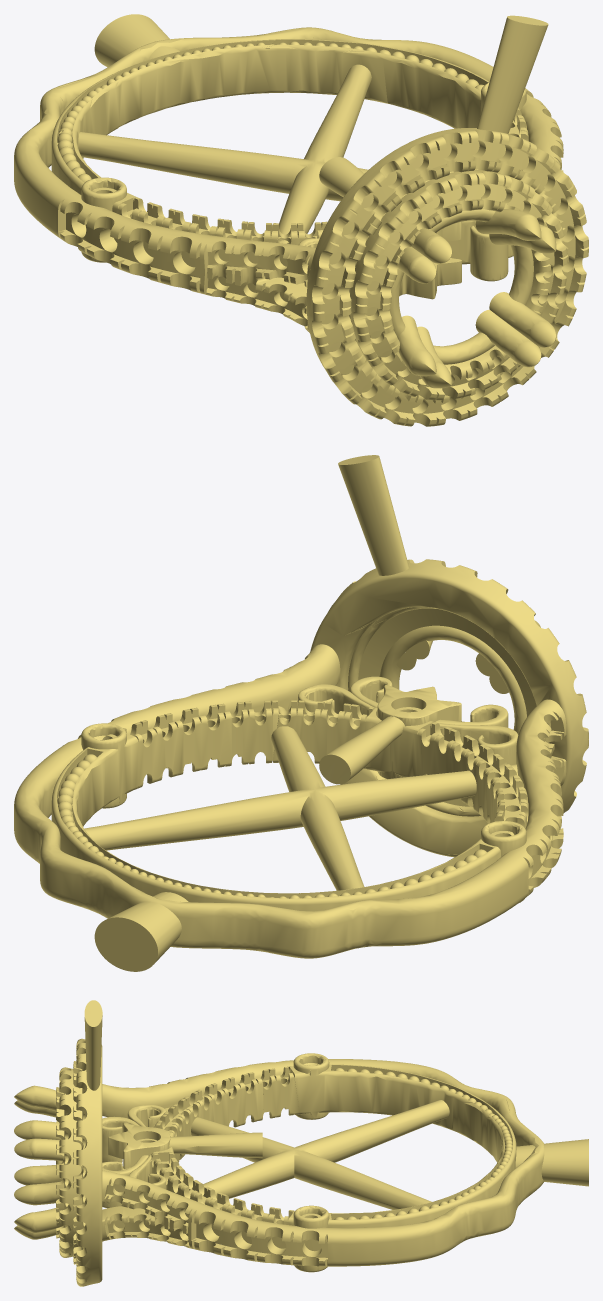
The picture shows the model from 3 angles, top to bottom: view 1: azimuth 30°, elevation 25°; view 2: azimuth 150°, elevation 25°; view 3: azimuth 270°, elevation 25°; orthographic projection. The views are drawn at different scales.
Parts seen in each view (by area): view 1: Renderer Node; view 2: Renderer Node; view 3: Renderer Node.
Part boxes in pixels (bbox=[...]): Renderer Node: bbox=[14, 14, 588, 426]; Renderer Node: bbox=[14, 455, 588, 971]; Renderer Node: bbox=[14, 1000, 588, 1286].
Size of the model in its own units: 22.92 by 17.81 by 30.99.
